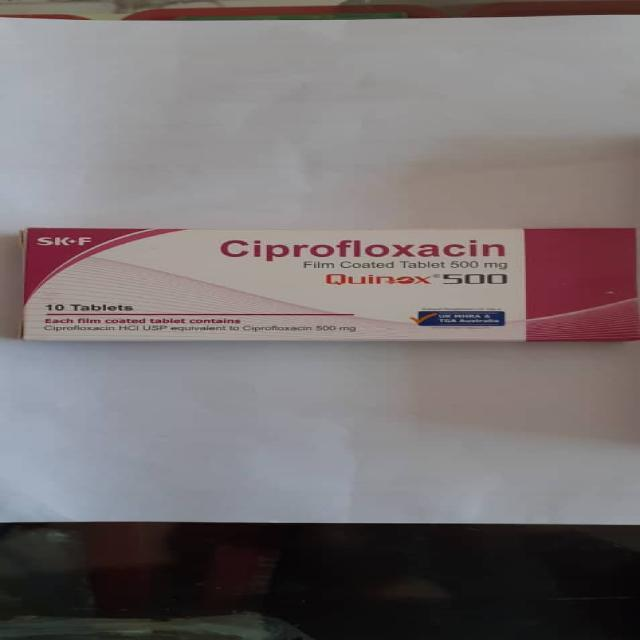drug-name: (320, 271, 510, 287)
